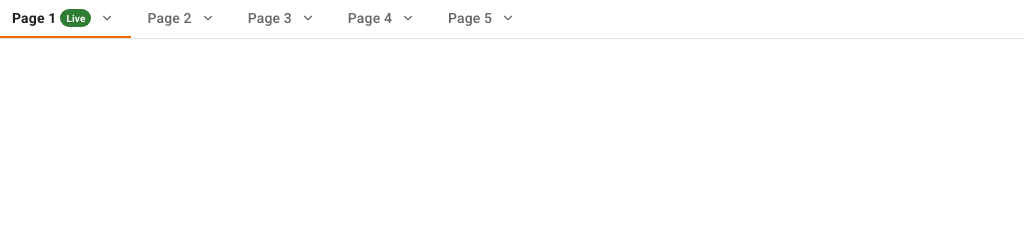
PageTabsBar: Duplicate respects the page limit › disables Duplicate at the cap (5 pages) with an explanation
The image size is (1024, 238).
Click the button named "Actions for Page 2": click(208, 18) 196,8 -> 220,28
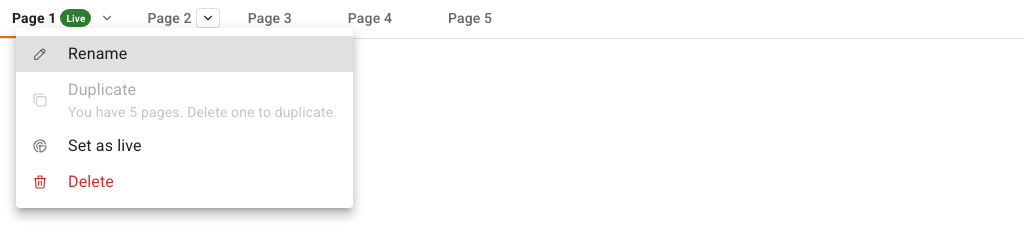
Expected: the text "You have 5 pages. Delete one to duplicate." is shown, 68,102 -> 337,122
